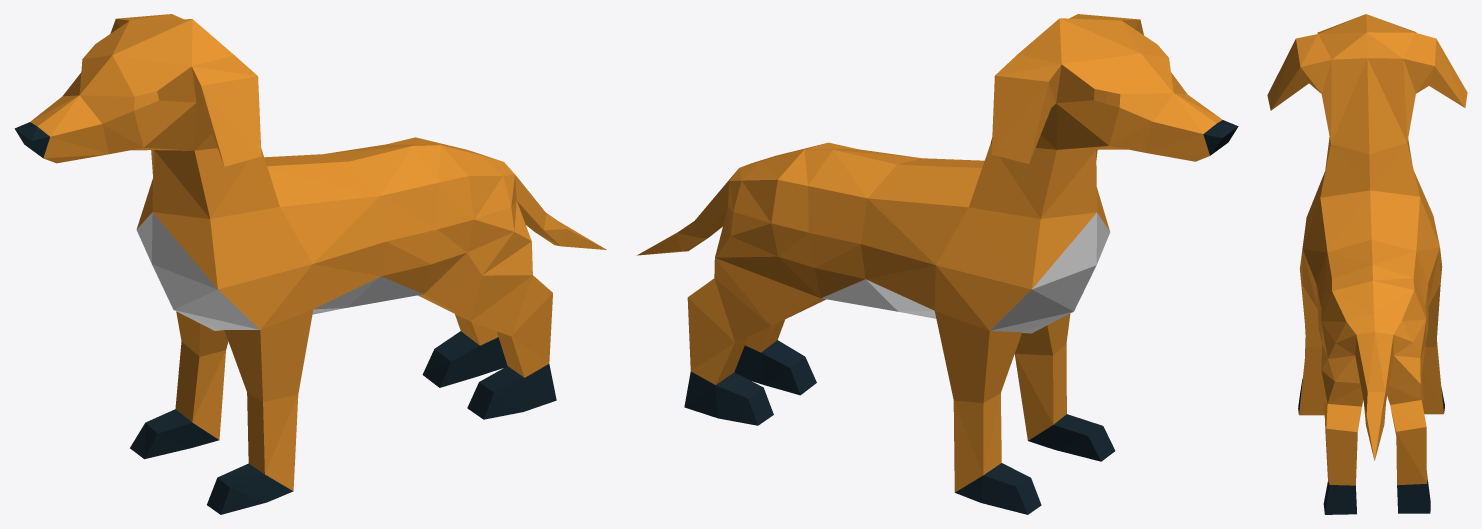
Rendered from FINAL DOG WITH COLOR.fbx.
3 renders of one model, left to right at view 1: azimuth 30°, elevation 25°; view 2: azimuth 150°, elevation 25°; view 3: azimuth 270°, elevation 25°, orthographic. The views are drawn at different scales.
Visible parts, largest first — view 1: Cylinder; view 2: Cylinder; view 3: Cylinder.
Part boxes in pixels (<box>): Cylinder: <box>14,14,606,514</box>; Cylinder: <box>637,14,1238,514</box>; Cylinder: <box>1267,14,1467,514</box>.
Bounding box in the file's own units: 737 × 552 × 273.
